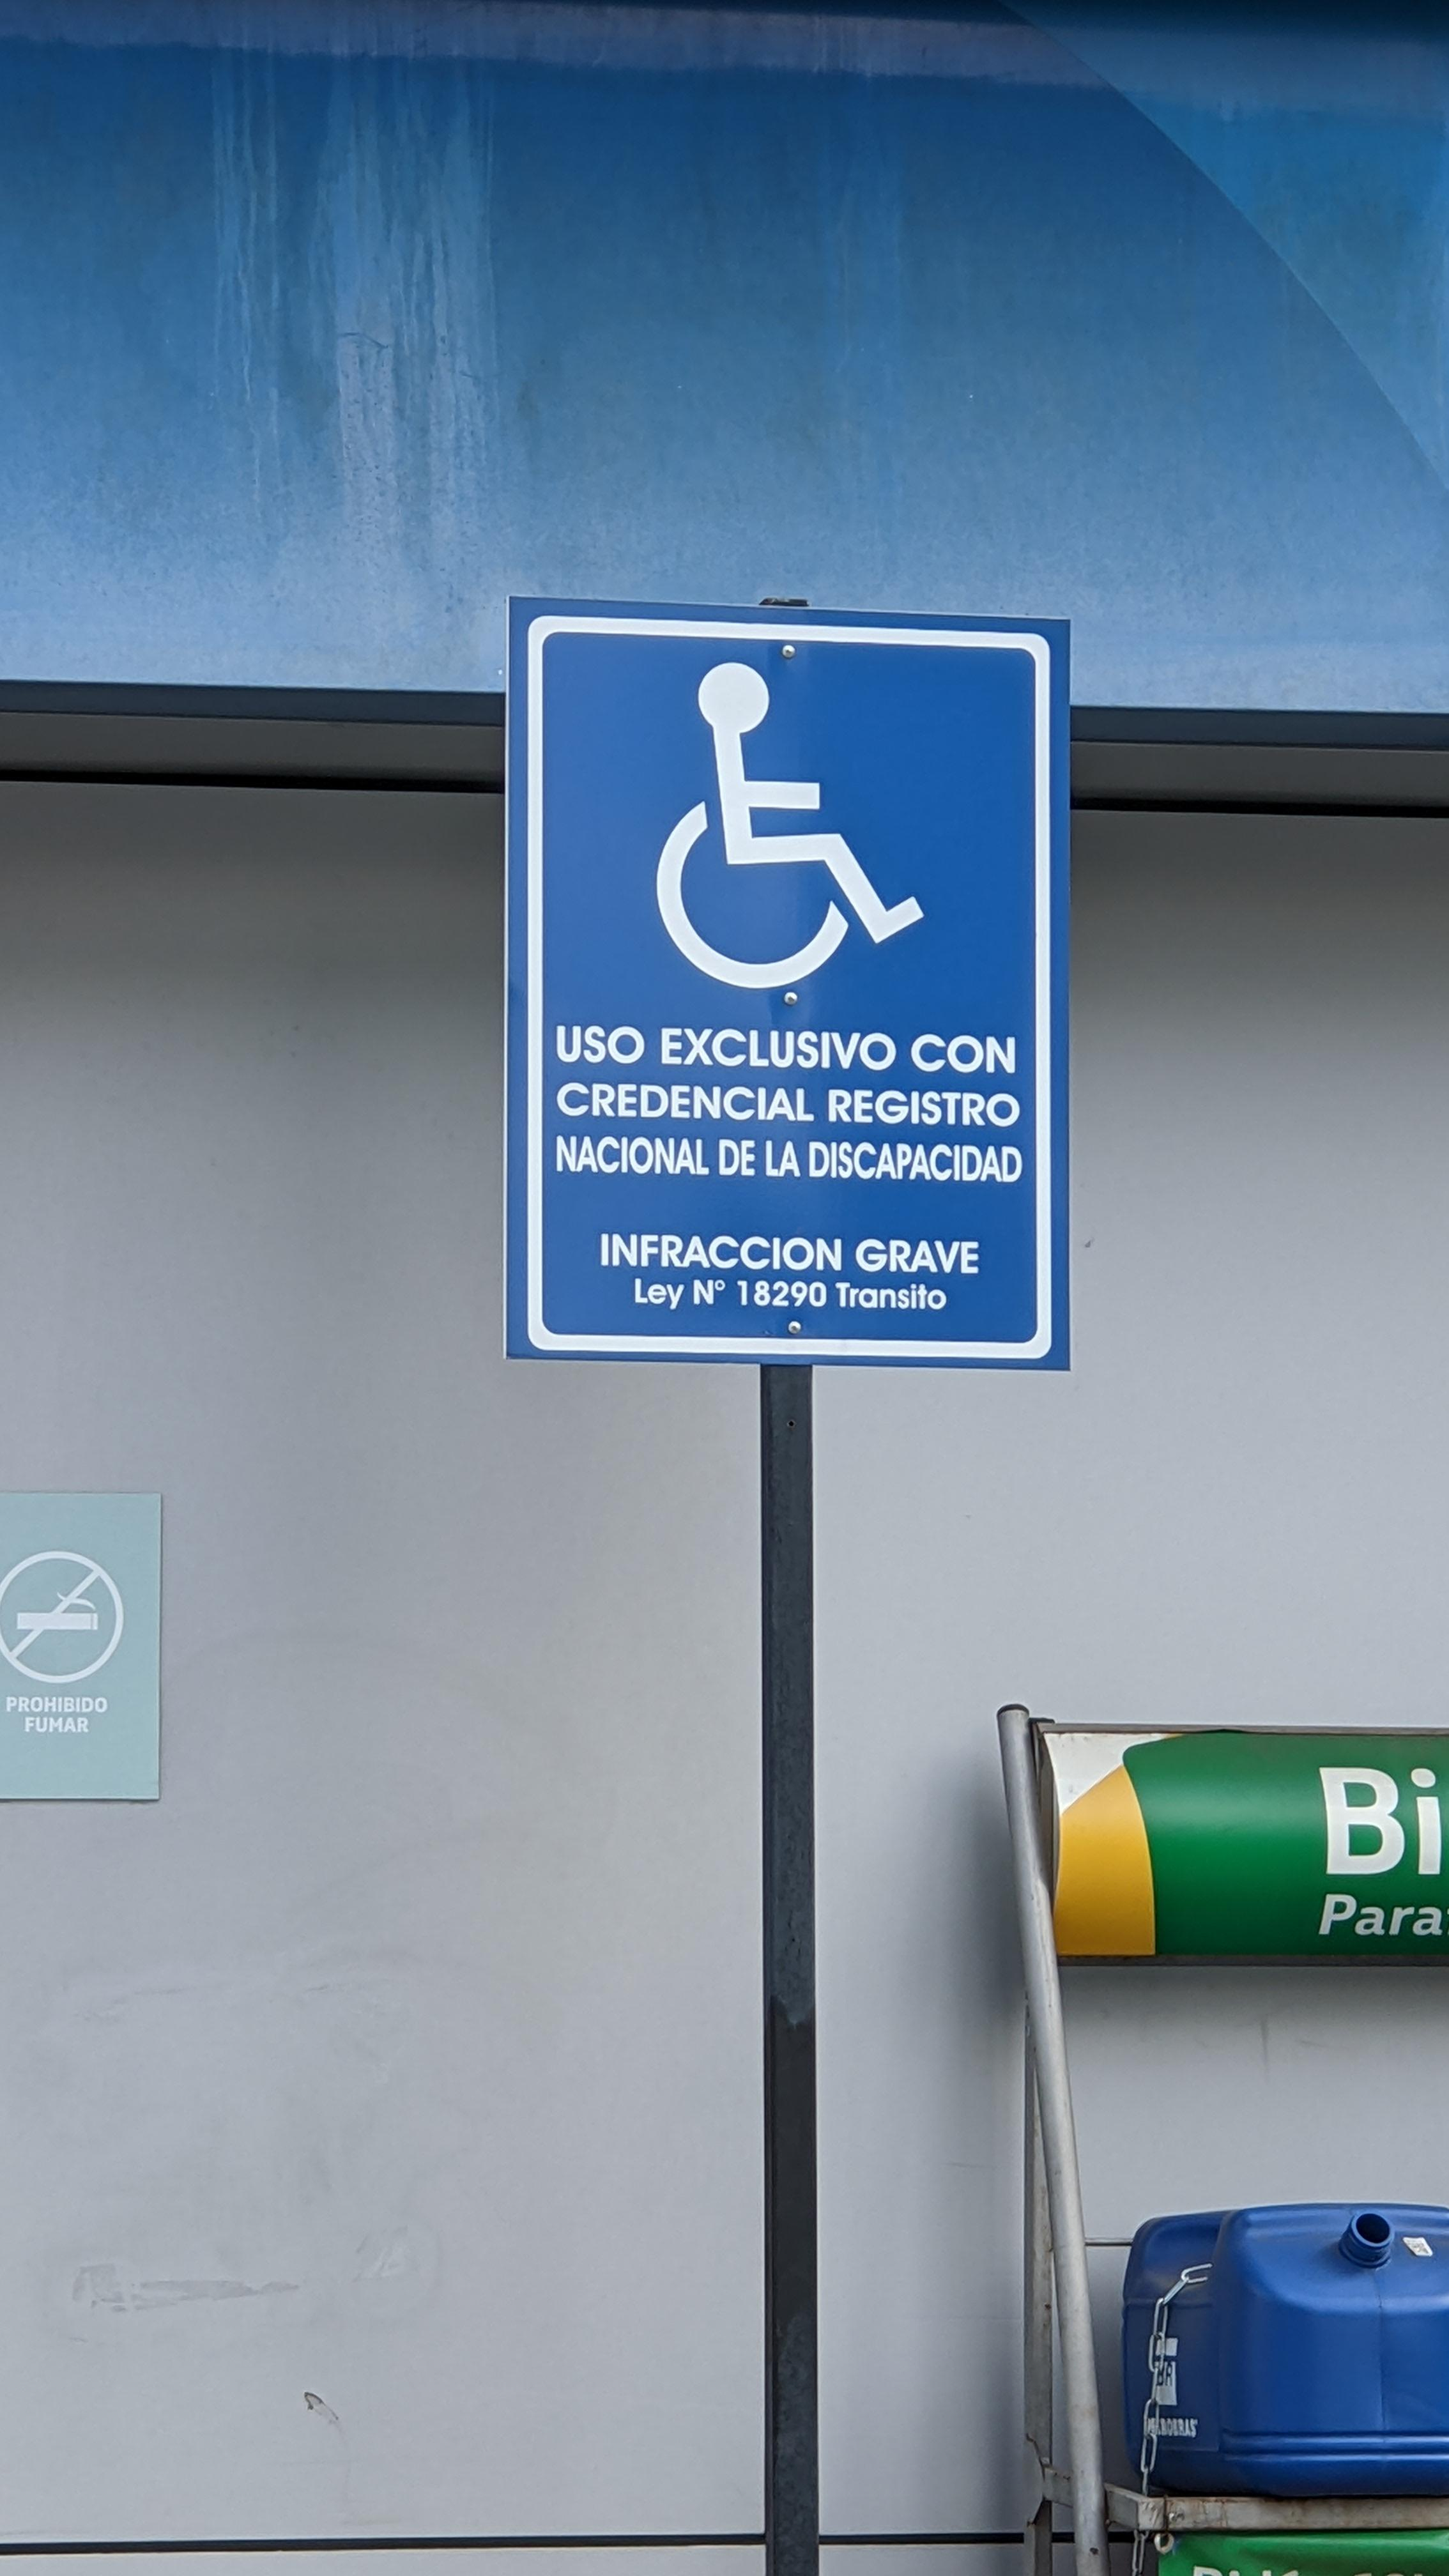handicapped symbol: (649, 658, 931, 996)
